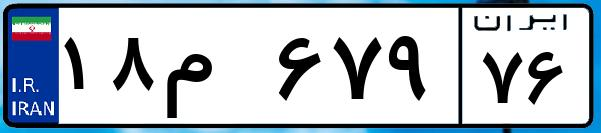1: (57, 26, 110, 100)
6: (270, 28, 330, 110), (525, 38, 570, 115)
7: (330, 28, 385, 110), (475, 38, 525, 113)
8: (110, 28, 158, 98)
9: (385, 28, 445, 110)
م: (158, 20, 270, 120)
